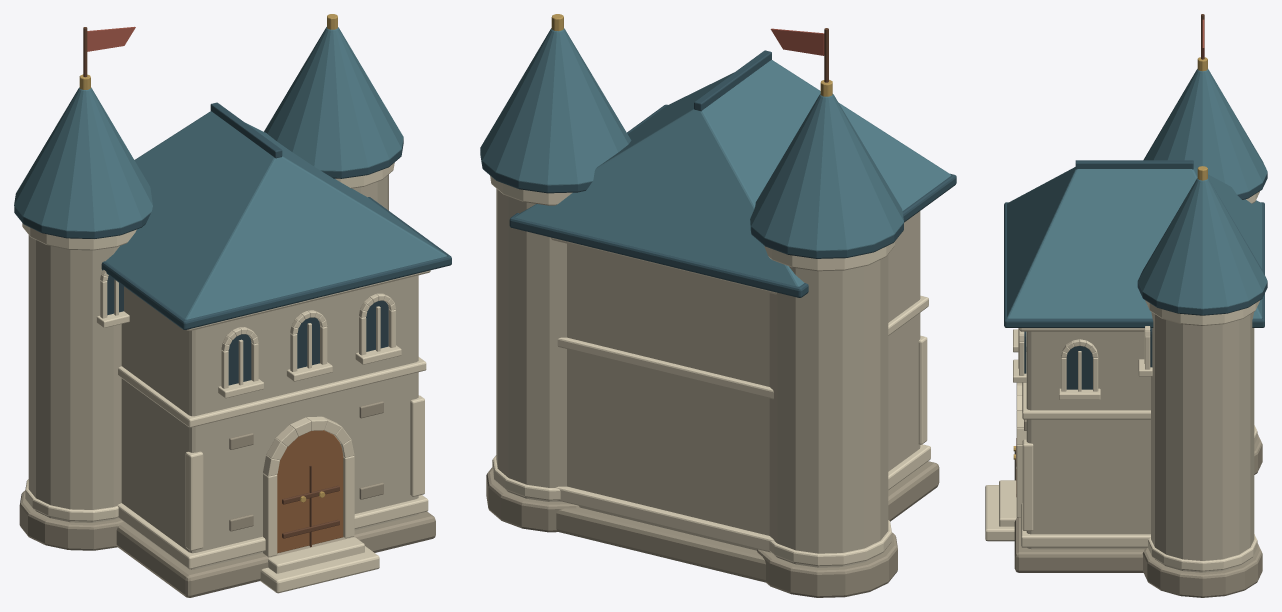
Rendered from Kingdom_Castle.fbx.
3 views of the same model, side by side, from view 1: azimuth 30°, elevation 25°; view 2: azimuth 150°, elevation 25°; view 3: azimuth 270°, elevation 25° (orthographic). The views are drawn at different scales.
Parts seen in each view (by area): view 1: Kingdom_Castle_Mesh; view 2: Kingdom_Castle_Mesh; view 3: Kingdom_Castle_Mesh.
Part boxes in pixels (x1,y1,x2,y2): Kingdom_Castle_Mesh: (14,14,451,597); Kingdom_Castle_Mesh: (480,14,956,597); Kingdom_Castle_Mesh: (985,14,1267,597).
Bounding box in the file's own units: 6.16 × 7.87 × 4.48.
